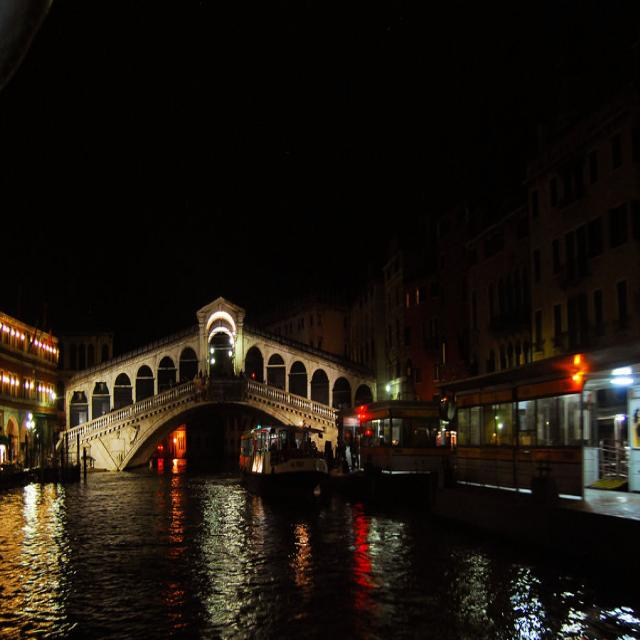Boat: (348, 368, 451, 524), (234, 393, 342, 502)
